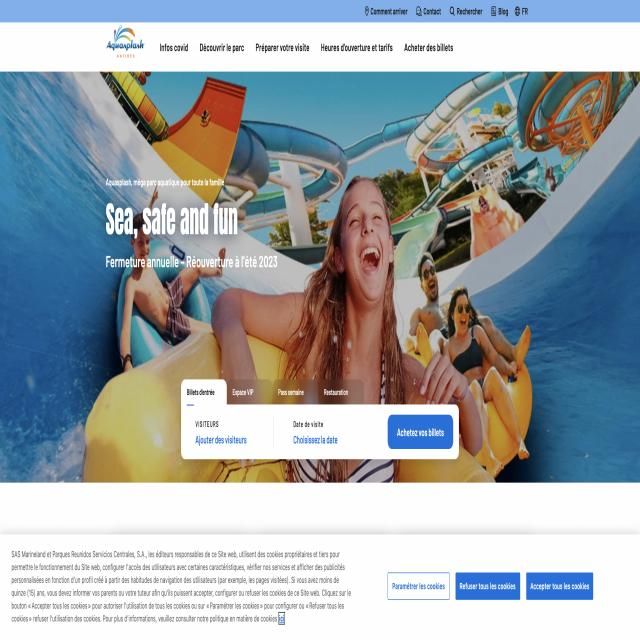Logo: (100, 23, 152, 63)
Navigation: (159, 28, 465, 62)
